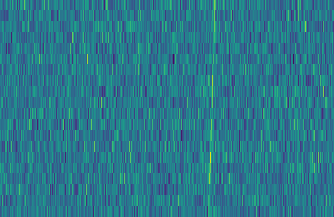signal: (204, 0, 220, 217)
